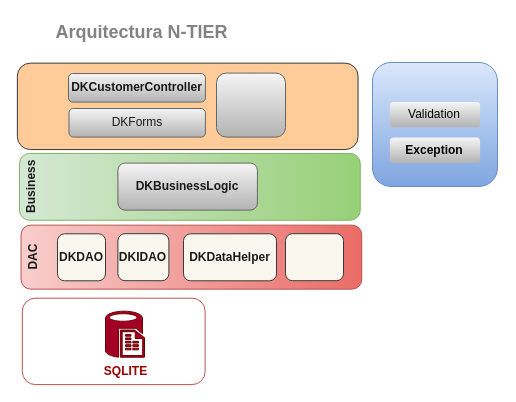
Image size: 516x402. Some labels were removed from this diagram. Here are the shapes that lost their labels. From the top down, the box of each, then its label:
(16, 62, 358, 150): User Interface
(216, 72, 286, 137): DKGUI
(372, 62, 498, 186): Framework
(284, 233, 344, 281): DKDTO
(21, 297, 205, 385): Data Sources
